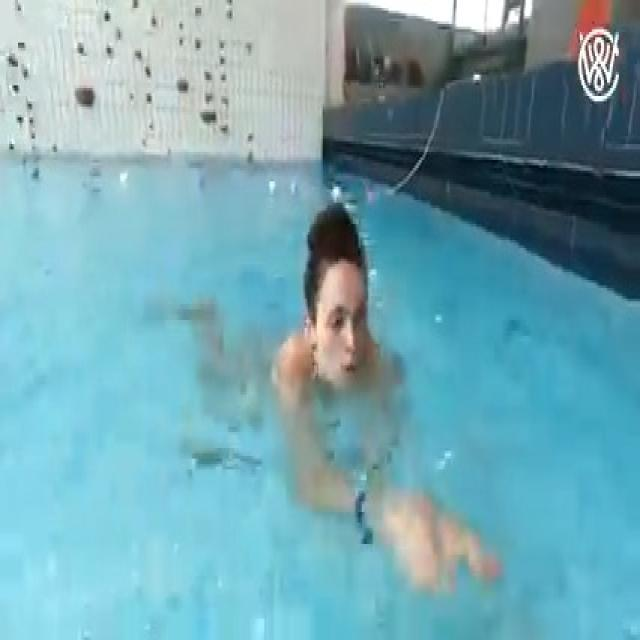Swimming: (168, 206, 492, 586)
